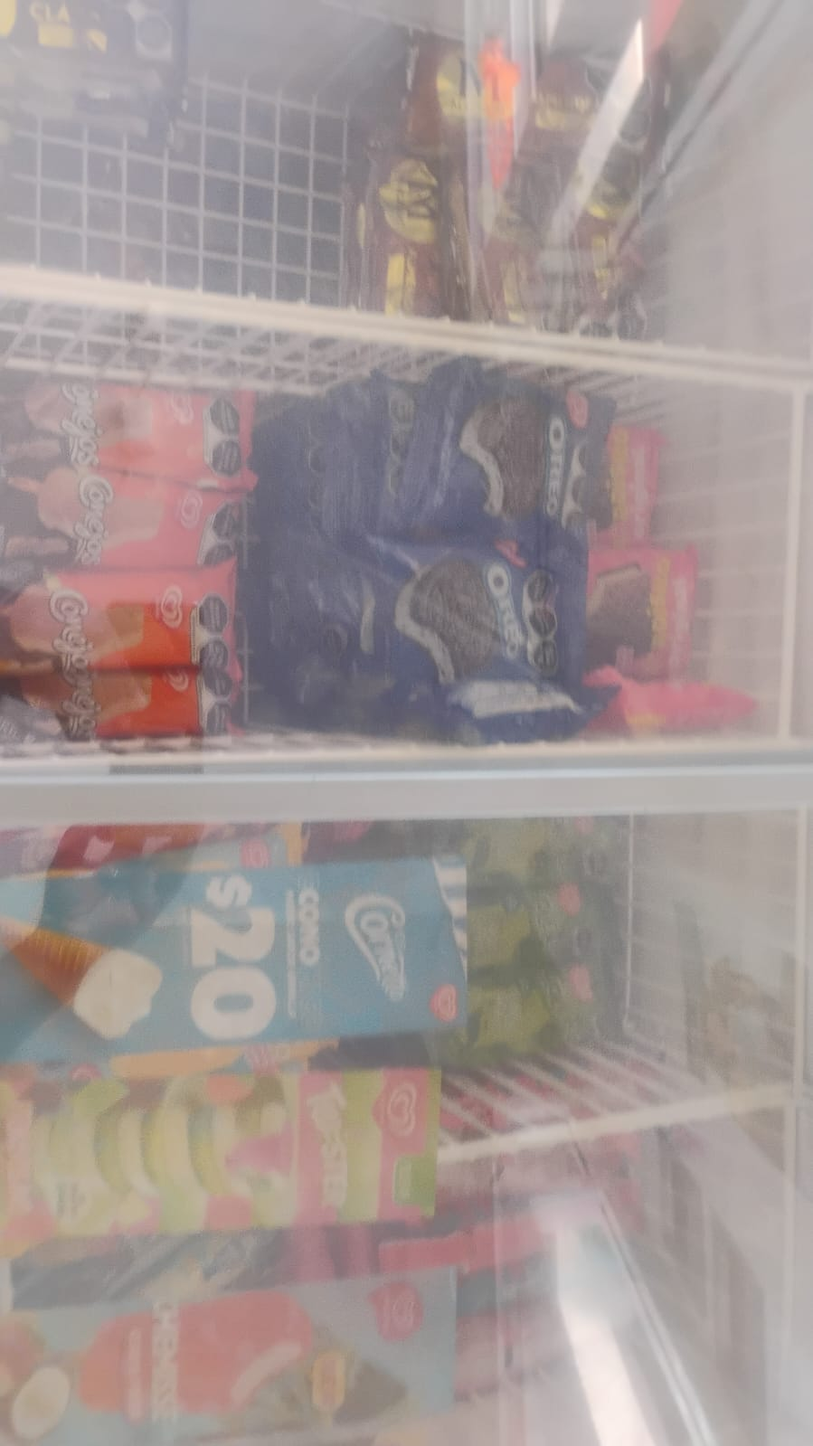rejilla: (7, 281, 804, 391), (6, 267, 809, 370), (444, 1090, 789, 1160), (12, 737, 800, 763)
